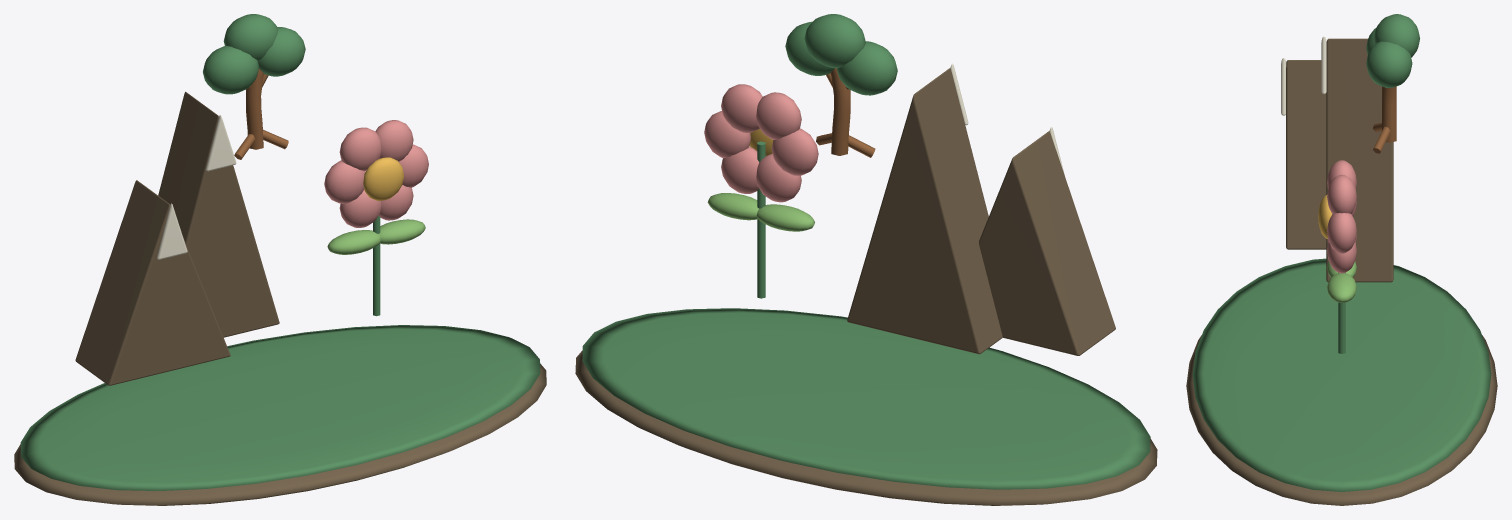
Rendered from complete-third-landscape-colors.glb.
3 views of the same model, side by side, from view 1: azimuth 30°, elevation 25°; view 2: azimuth 150°, elevation 25°; view 3: azimuth 270°, elevation 25° (orthographic). The views are drawn at different scales.
Visible parts, largest first — view 1: complete-third-landscape-colors_surface_01, complete-third-landscape-colors_surface_00, complete-third-landscape-colors_surface_04, complete-third-landscape-colors_surface_03, complete-third-landscape-colors_surface_02, complete-third-landscape-colors_surface_06, complete-third-landscape-colors_surface_05; view 2: complete-third-landscape-colors_surface_01, complete-third-landscape-colors_surface_00, complete-third-landscape-colors_surface_04, complete-third-landscape-colors_surface_03, complete-third-landscape-colors_surface_06; view 3: complete-third-landscape-colors_surface_01, complete-third-landscape-colors_surface_00, complete-third-landscape-colors_surface_04, complete-third-landscape-colors_surface_06, complete-third-landscape-colors_surface_03, complete-third-landscape-colors_surface_02, complete-third-landscape-colors_surface_05.
Part boxes in pixels (left/top/right/bottom): complete-third-landscape-colors_surface_01: left=20, top=14, right=540, bottom=490; complete-third-landscape-colors_surface_00: left=14, top=91, right=546, bottom=505; complete-third-landscape-colors_surface_04: left=324, top=120, right=428, bottom=227; complete-third-landscape-colors_surface_03: left=327, top=219, right=425, bottom=254; complete-third-landscape-colors_surface_02: left=157, top=115, right=236, bottom=259; complete-third-landscape-colors_surface_06: left=234, top=68, right=288, bottom=159; complete-third-landscape-colors_surface_05: left=363, top=157, right=404, bottom=200; complete-third-landscape-colors_surface_01: left=582, top=14, right=1150, bottom=489; complete-third-landscape-colors_surface_00: left=575, top=68, right=1157, bottom=505; complete-third-landscape-colors_surface_04: left=704, top=84, right=818, bottom=202; complete-third-landscape-colors_surface_03: left=707, top=193, right=814, bottom=231; complete-third-landscape-colors_surface_06: left=816, top=68, right=875, bottom=157; complete-third-landscape-colors_surface_01: left=1192, top=14, right=1491, bottom=491; complete-third-landscape-colors_surface_00: left=1186, top=38, right=1497, bottom=505; complete-third-landscape-colors_surface_04: left=1327, top=160, right=1356, bottom=273; complete-third-landscape-colors_surface_06: left=1373, top=86, right=1396, bottom=153; complete-third-landscape-colors_surface_03: left=1327, top=261, right=1356, bottom=302; complete-third-landscape-colors_surface_02: left=1281, top=36, right=1326, bottom=115; complete-third-landscape-colors_surface_05: left=1318, top=195, right=1332, bottom=238.
Size of the model in its own units: 4.56 by 3.4 by 2.5.
